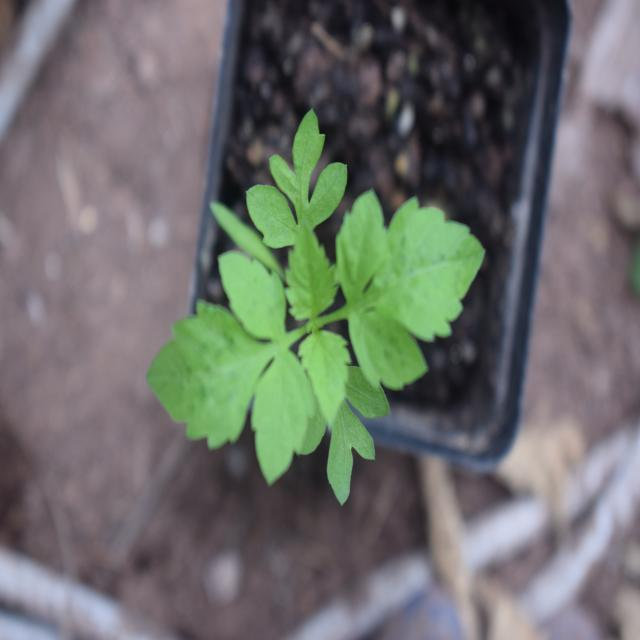Bidens pilosa: (148, 134, 487, 494)
